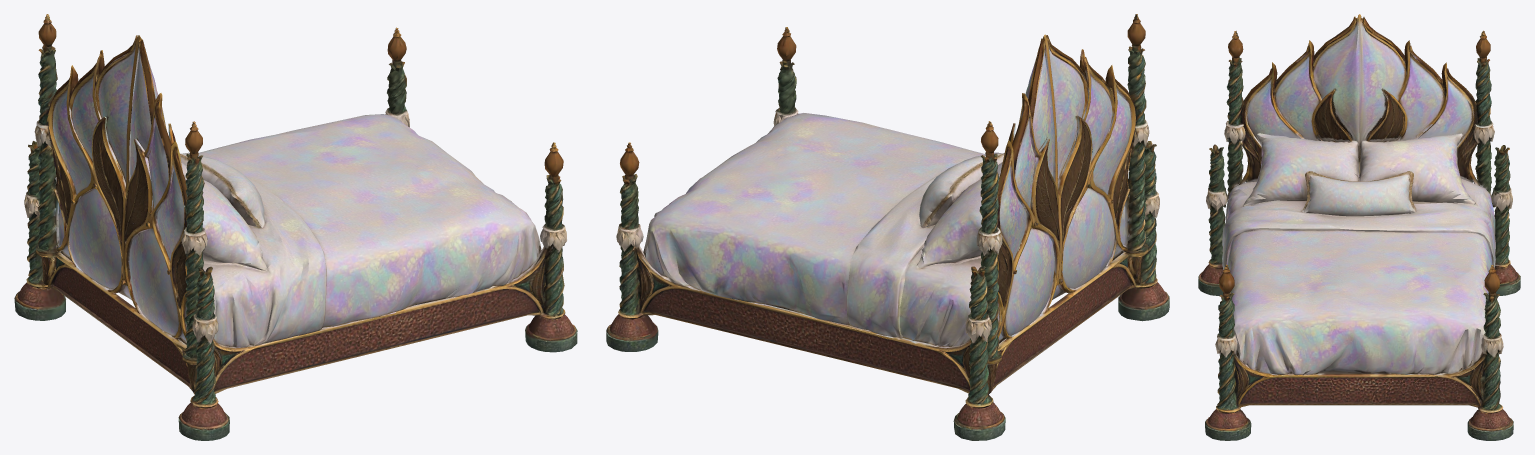
The model's file is ON-05_bed_game.glb.
The picture shows the model from 3 angles, left to right: view 1: azimuth 30°, elevation 25°; view 2: azimuth 150°, elevation 25°; view 3: azimuth 270°, elevation 25°; orthographic projection. The views are drawn at different scales.
Parts seen in each view (by area): view 1: ON-05_bed; view 2: ON-05_bed; view 3: ON-05_bed.
Part boxes in pixels (x1=…): ON-05_bed: x1=14, y1=14, x2=577, y2=440; ON-05_bed: x1=606, y1=14, x2=1169, y2=440; ON-05_bed: x1=1198, y1=14, x2=1520, y2=440.
Size of the model in its own units: 2.15 by 1.72 by 1.8.
1 material, 1 textured.
